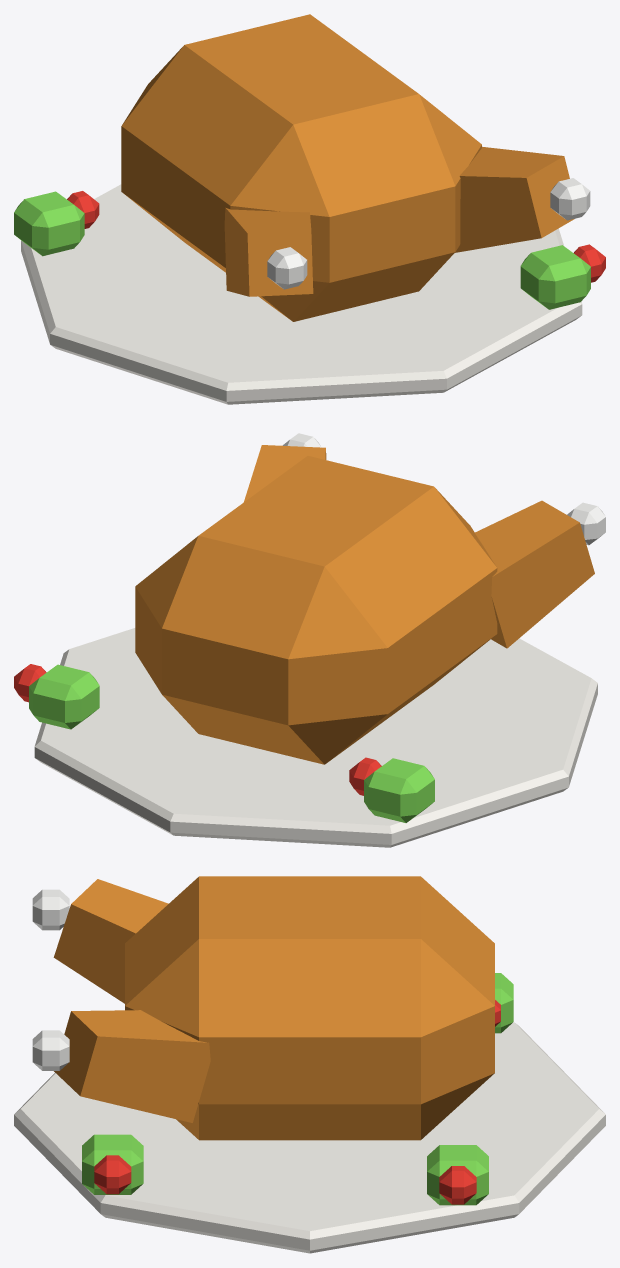
File: RoastTurkey.fbx
The picture shows the model from 3 angles, top to bottom: view 1: azimuth 30°, elevation 25°; view 2: azimuth 150°, elevation 25°; view 3: azimuth 270°, elevation 25°; orthographic projection.
Parts seen in each view (by area): view 1: RoastTurkey; view 2: RoastTurkey; view 3: RoastTurkey.
Boxes of the visible parts, bbox=[...] form: RoastTurkey: bbox=[14, 14, 605, 404]; RoastTurkey: bbox=[14, 433, 605, 847]; RoastTurkey: bbox=[14, 876, 605, 1253].
Size of the model in its own units: 4.8 by 2 by 4.8.
1 material, 1 textured.
